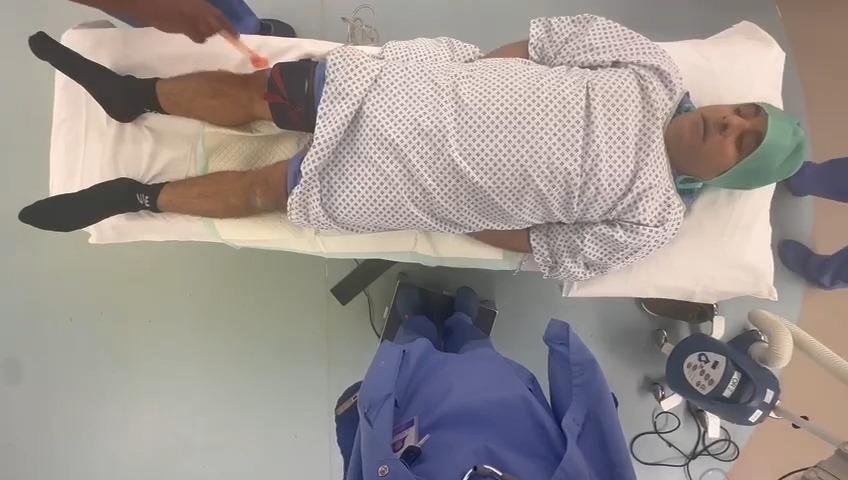bed: (20, 15, 805, 302)
patient: (22, 15, 805, 279)
prepstick: (219, 30, 268, 70)
tourniquet: (265, 60, 318, 132)
